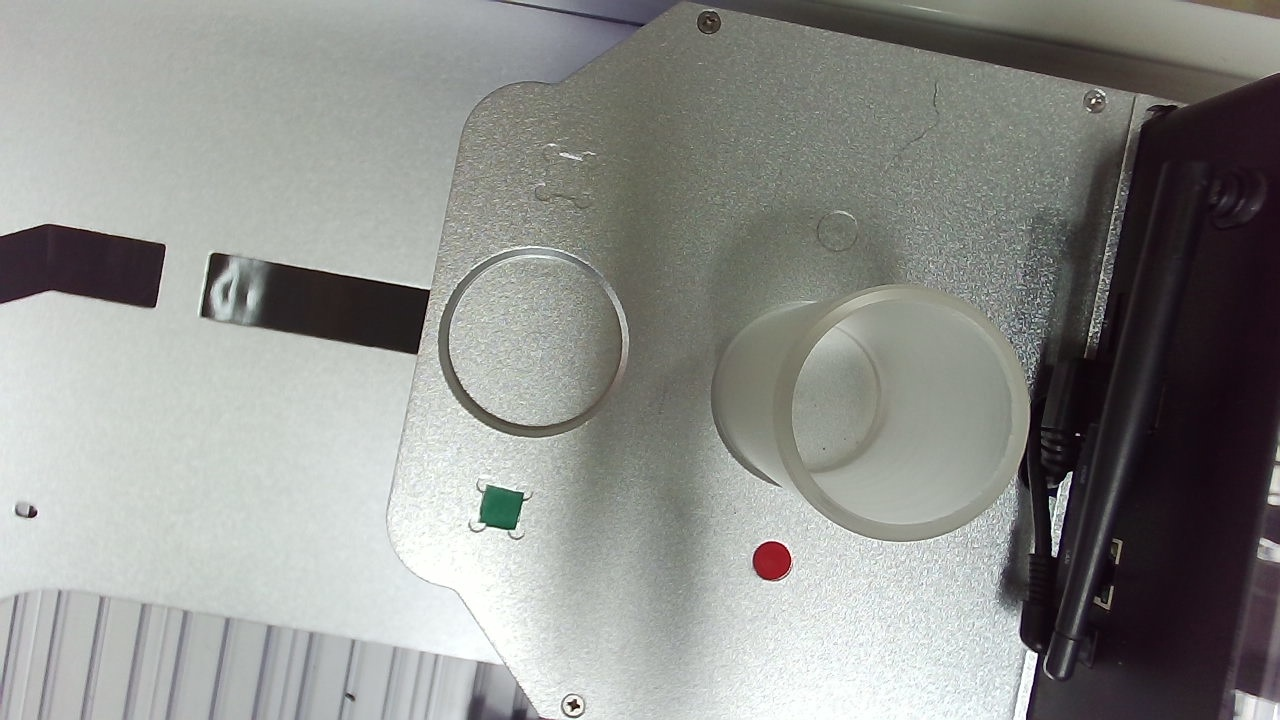XLabel: (223, 56, 291, 125)
YLabel: (647, 53, 711, 122)
none: (94, 192, 401, 509)
transparentempty: (482, 115, 908, 528)
